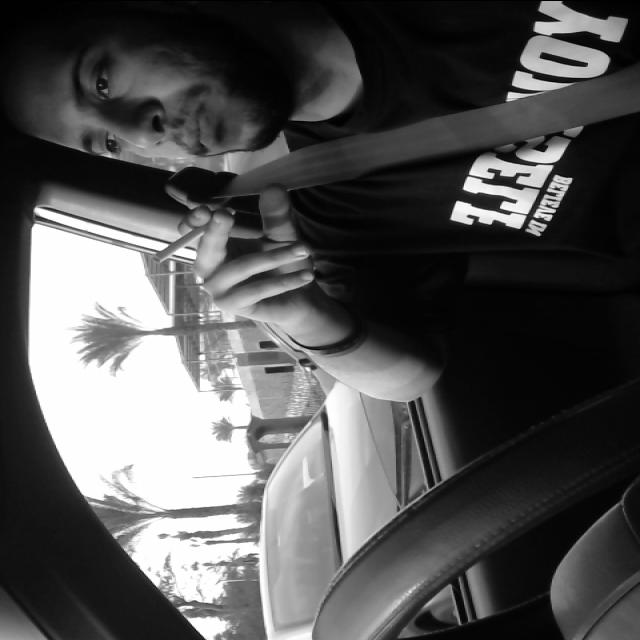smoking: (140, 206, 238, 266)
